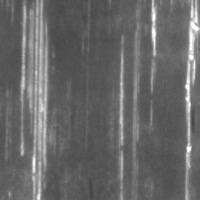scratches: (17, 1, 51, 198), (182, 1, 199, 199), (113, 34, 129, 199), (147, 0, 161, 123)
